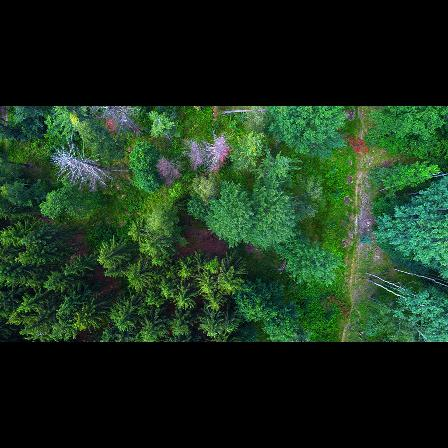Dead: (48, 141, 114, 186), (98, 105, 144, 137), (209, 136, 233, 174), (154, 155, 182, 182), (182, 138, 203, 168)
